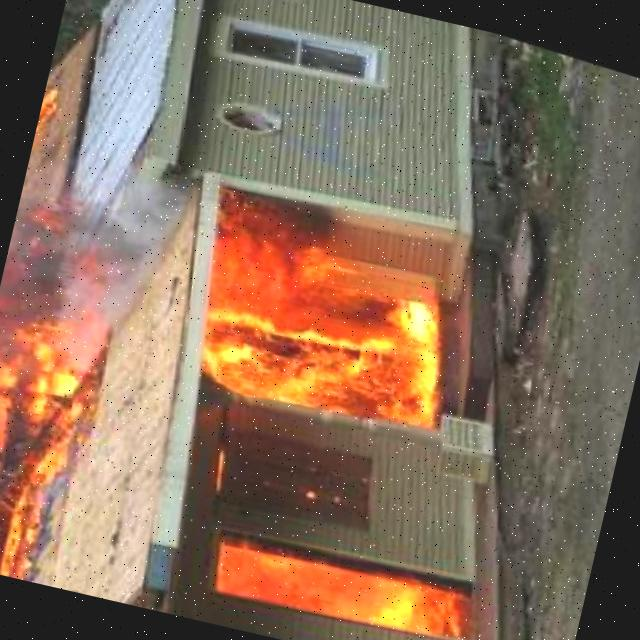fire: (145, 159, 488, 469), (186, 493, 499, 640), (0, 256, 129, 554), (22, 76, 80, 196), (0, 545, 31, 581)
